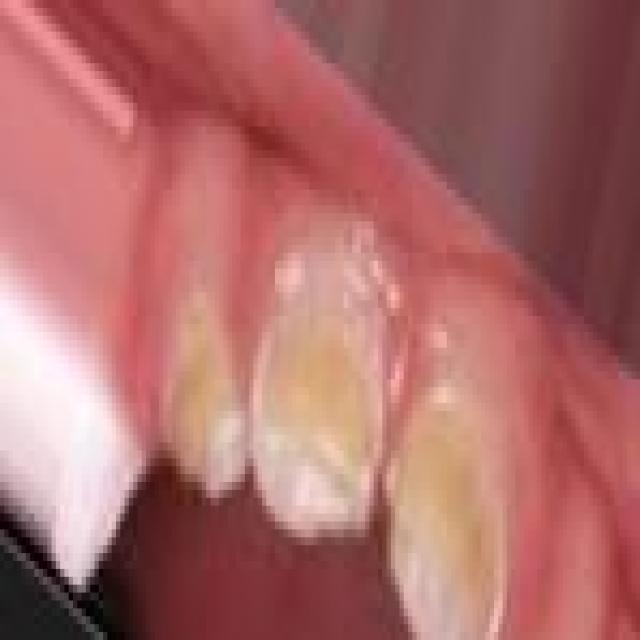caries: (242, 280, 387, 542), (387, 387, 514, 640), (154, 284, 251, 523)
